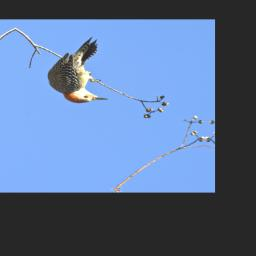Woodpecker: (43, 33, 117, 110)
